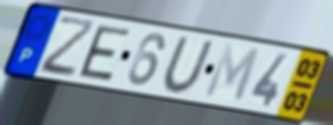4: (247, 51, 290, 109)
6: (127, 32, 168, 88)
E: (76, 24, 133, 84)
M: (201, 42, 263, 106)
U: (161, 35, 216, 96)
Z: (38, 15, 99, 80)
